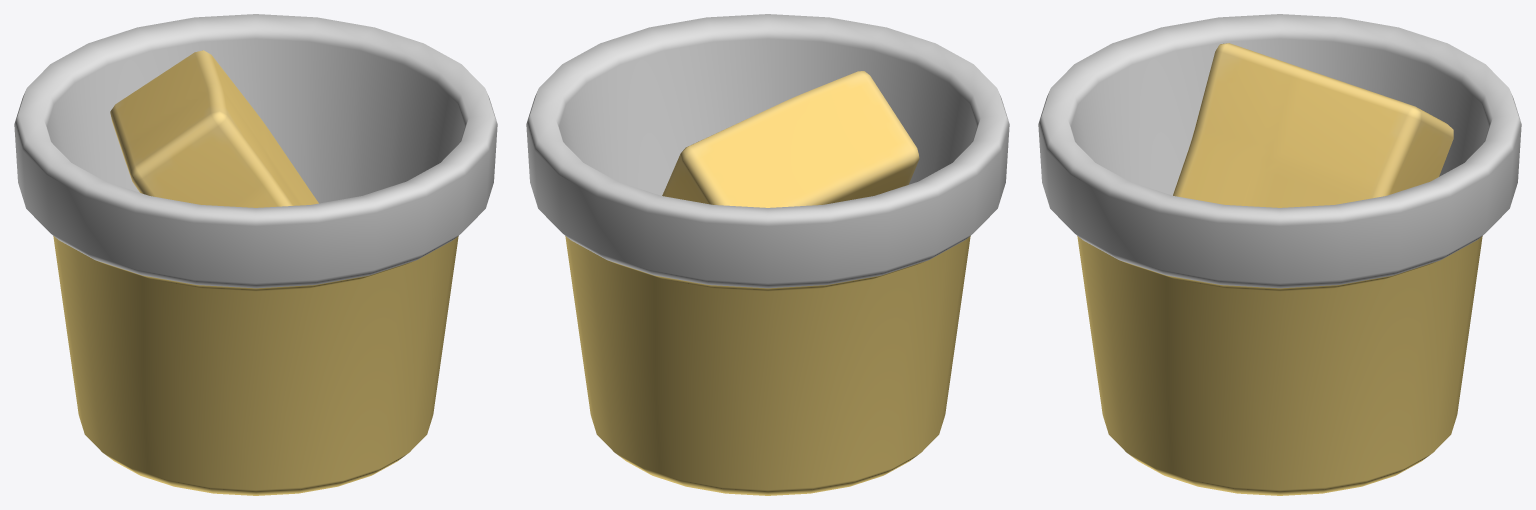
The model's file is pi_cocotteplate09_butter.gltf.
3 renders of one model, left to right at view 1: azimuth 30°, elevation 25°; view 2: azimuth 150°, elevation 25°; view 3: azimuth 270°, elevation 25°, orthographic.
Parts seen in each view (by area): view 1: um_pi_cocotteplate09_butter_model_pi_cocotteplate09_butter_m (×2); view 2: um_pi_cocotteplate09_butter_model_pi_cocotteplate09_butter_m (×2); view 3: um_pi_cocotteplate09_butter_model_pi_cocotteplate09_butter_m (×2).
Boxes of the visible parts, x1,y1,x2,y2 form: um_pi_cocotteplate09_butter_model_pi_cocotteplate09_butter_m (×2): (14, 14, 497, 495); um_pi_cocotteplate09_butter_model_pi_cocotteplate09_butter_m (×2): (526, 14, 1009, 495); um_pi_cocotteplate09_butter_model_pi_cocotteplate09_butter_m (×2): (1038, 14, 1521, 495).
Size of the model in its own units: 0.0797 by 0.064 by 0.0797.
Materials: 2 (2 with a texture image).
